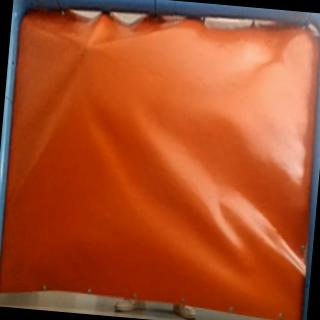Hit-hRxx: (80, 40, 94, 54)
